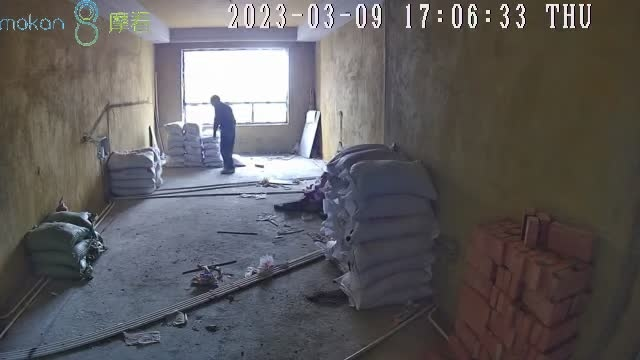people: (210, 96, 237, 173)
window: (185, 50, 290, 121)
